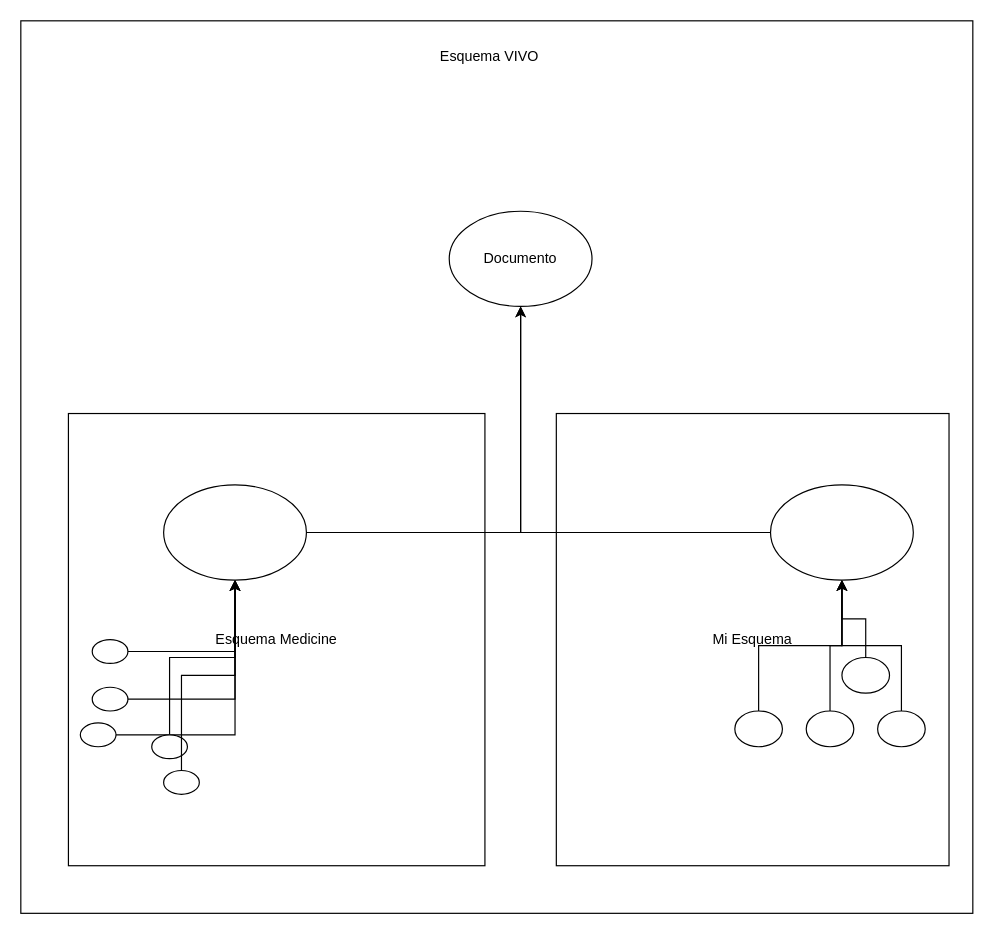
The diagram is 994 pixels wide and 934 high, and some of its shapes have lost their labels. Each missing label, with the centre of its shape:
Esquema de Medicina: pixel 234 532
Instancias: pixel 841 532
